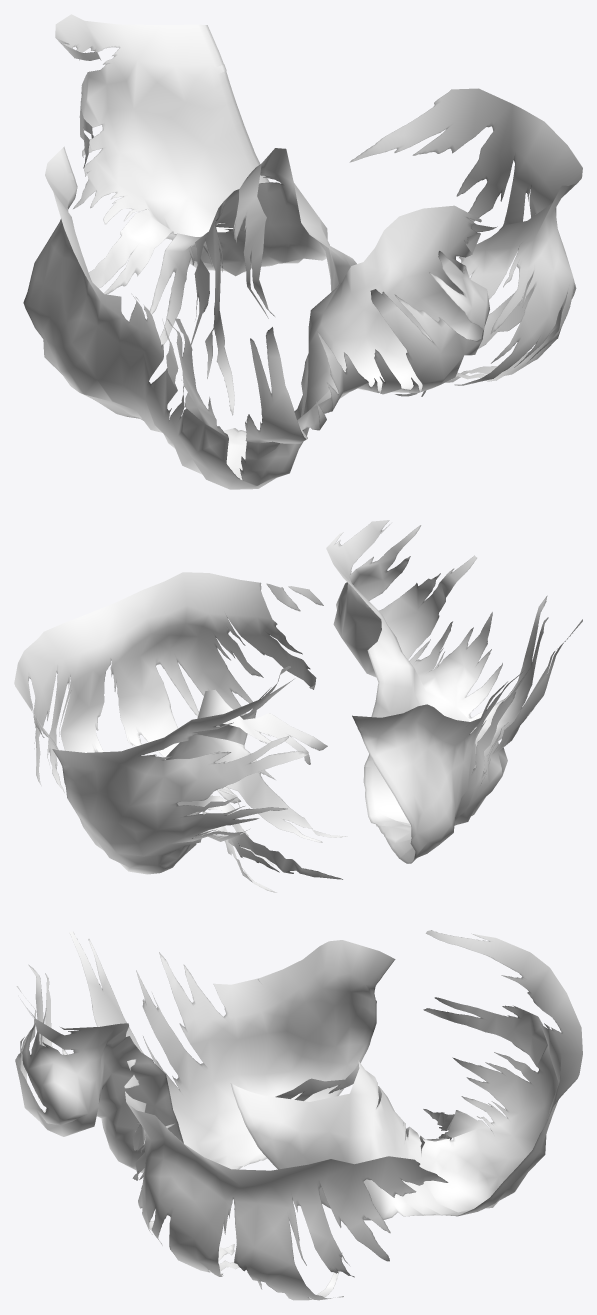
Rendered from SM_ENV_KNFRST_Leaf_D.FBX.
The picture shows the model from 3 angles, top to bottom: view 1: azimuth 30°, elevation 25°; view 2: azimuth 150°, elevation 25°; view 3: azimuth 270°, elevation 25°; orthographic projection. The views are drawn at different scales.
Parts seen in each view (by area): view 1: SM_ENV_KNFRST_Leaf_D; view 2: SM_ENV_KNFRST_Leaf_D; view 3: SM_ENV_KNFRST_Leaf_D.
Boxes of the visible parts, x1=… form: SM_ENV_KNFRST_Leaf_D: x1=23, y1=14, x2=582, y2=489; SM_ENV_KNFRST_Leaf_D: x1=14, y1=520, x2=582, y2=892; SM_ENV_KNFRST_Leaf_D: x1=15, y1=930, x2=582, y2=1300.
Size of the model in its own units: 3652 by 2192 by 4238.
